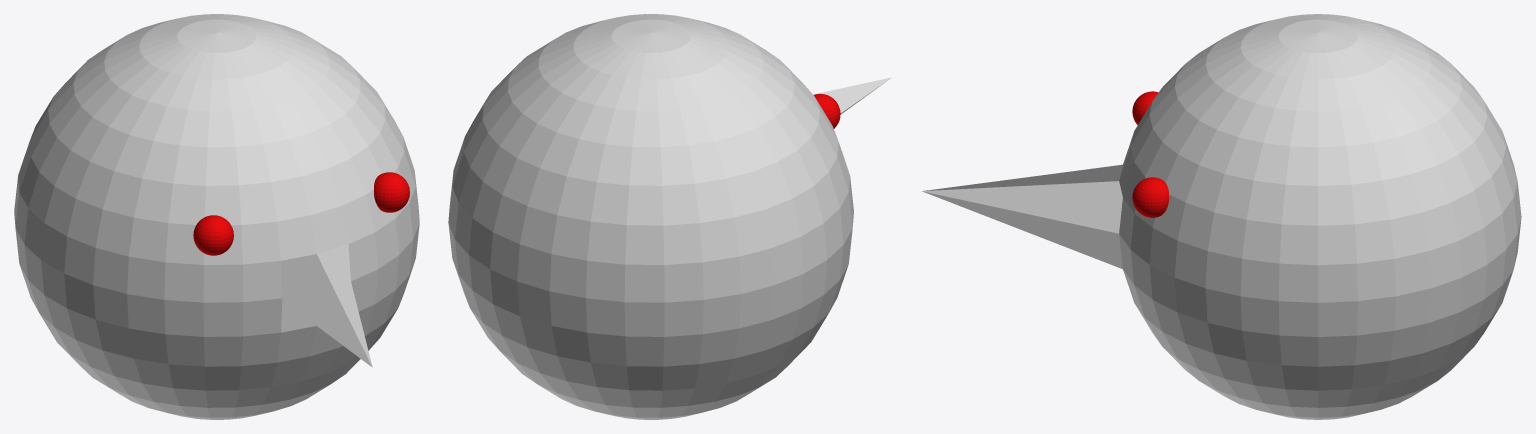
The model's file is BadGuyBall.fbx.
The picture shows the model from 3 angles, left to right: view 1: azimuth 30°, elevation 25°; view 2: azimuth 150°, elevation 25°; view 3: azimuth 270°, elevation 25°; orthographic projection.
Parts seen in each view (by area): view 1: Sphere, Sphere.001, Sphere.002; view 2: Sphere, Sphere.001; view 3: Sphere, Sphere.002.
Part boxes in pixels (left/top/right/bottom): Sphere: left=14, top=14, right=419, bottom=419; Sphere.001: left=193, top=215, right=233, bottom=255; Sphere.002: left=374, top=172, right=409, bottom=212; Sphere: left=448, top=14, right=891, bottom=419; Sphere.001: left=814, top=93, right=840, bottom=128; Sphere: left=922, top=14, right=1521, bottom=419; Sphere.002: left=1132, top=177, right=1169, bottom=217.
Bounding box in the file's own units: 200 × 200 × 295.
